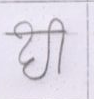i_matra: (52, 18, 68, 74)
